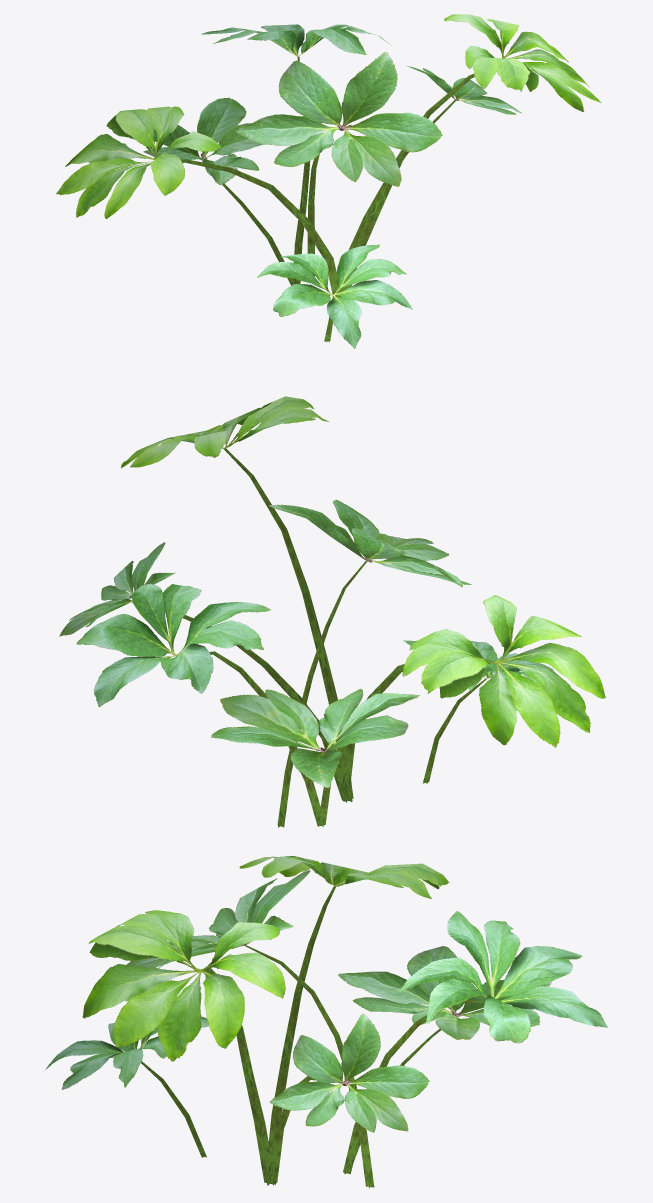
The model's file is m_grass_23.fbx.
3 renders of one model, top to bottom at view 1: azimuth 30°, elevation 25°; view 2: azimuth 150°, elevation 25°; view 3: azimuth 270°, elevation 25°, orthographic. The views are drawn at different scales.
Visible parts, largest first — view 1: mesh_grass_23_LOD0; view 2: mesh_grass_23_LOD0; view 3: mesh_grass_23_LOD0.
Boxes of the visible parts, left/top/right/bottom form: mesh_grass_23_LOD0: left=56, top=14, right=601, bottom=348; mesh_grass_23_LOD0: left=59, top=396, right=605, bottom=827; mesh_grass_23_LOD0: left=45, top=856, right=607, bottom=1188.
Size of what is drawn, in the model's own units: 0.7883 by 0.4427 by 0.7586.
